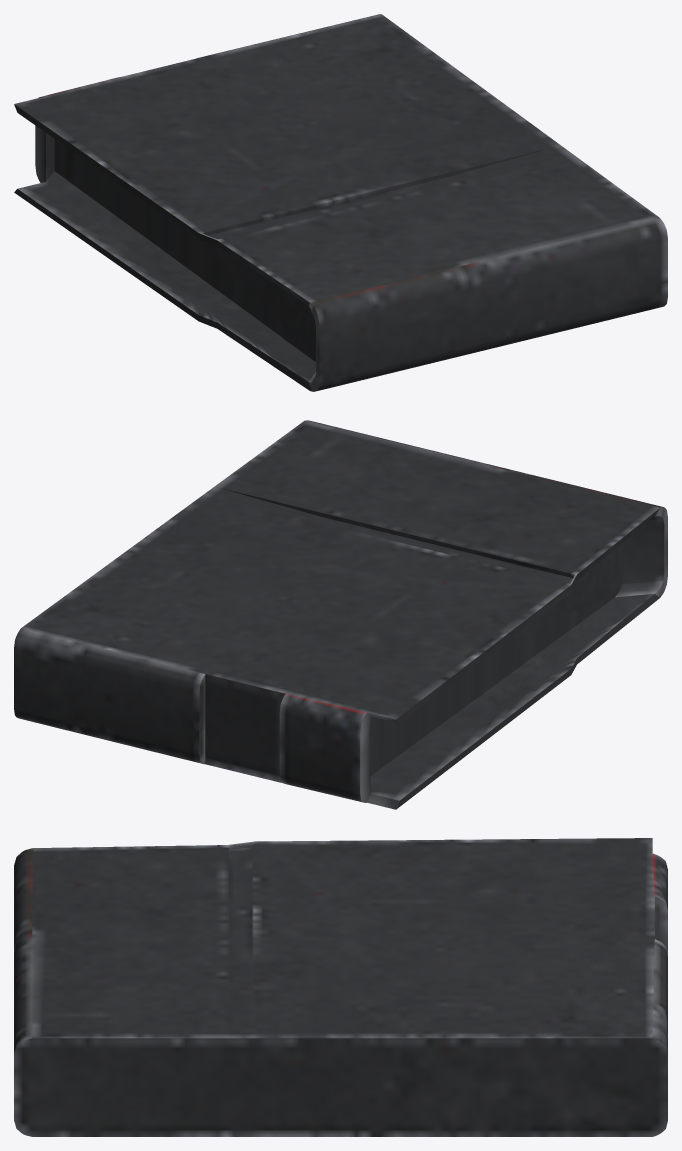
File: 14.5 ref denel ntw smart uv ani mag.fbx
The picture shows the model from 3 angles, top to bottom: view 1: azimuth 30°, elevation 25°; view 2: azimuth 150°, elevation 25°; view 3: azimuth 270°, elevation 25°; orthographic projection. The views are drawn at different scales.
Visible parts, largest first — view 1: mag.002; view 2: mag.002; view 3: mag.002.
Boxes of the visible parts, x1=… form: mag.002: x1=14, y1=14, x2=667, y2=391; mag.002: x1=14, y1=420, x2=667, y2=809; mag.002: x1=14, y1=838, x2=667, y2=1136.
Size of the model in its own units: 0.1363 by 0.0313 by 0.188.
Materials: 1 (1 with a texture image).
